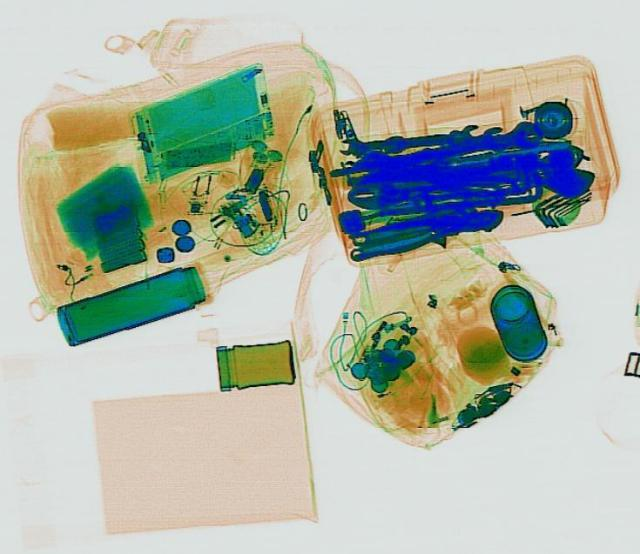Pliers: (343, 199, 507, 260)
Wrench: (335, 120, 481, 155), (422, 122, 508, 163)
